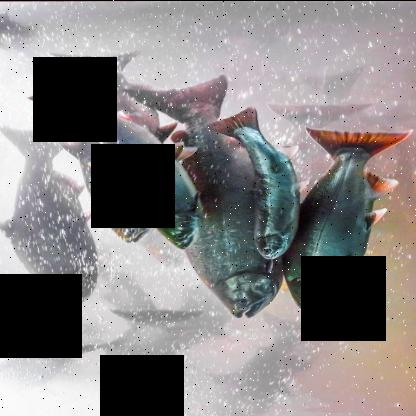fish: (128, 81, 288, 317), (30, 74, 201, 248), (279, 126, 409, 315), (0, 118, 104, 303), (263, 100, 355, 258), (206, 104, 296, 258), (0, 338, 104, 393)
